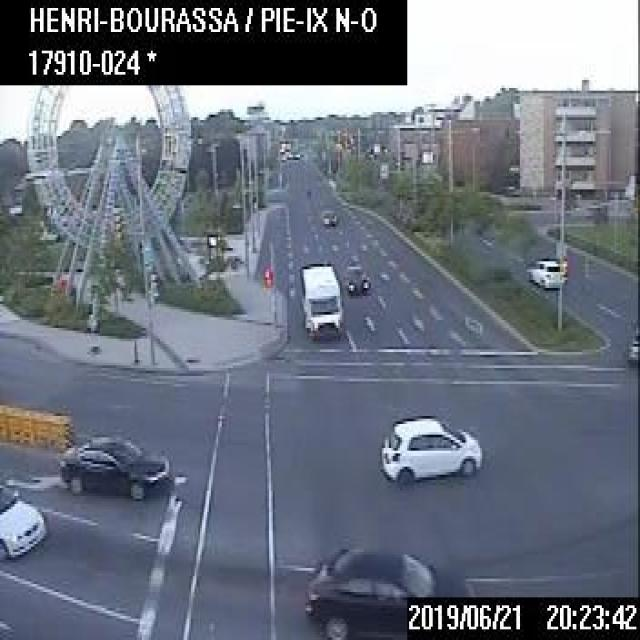construction: (262, 266, 274, 321)
vehicle: (302, 544, 467, 637), (54, 429, 171, 499), (380, 413, 482, 488), (0, 482, 47, 560), (298, 261, 344, 336), (524, 253, 566, 288), (342, 259, 369, 296), (624, 320, 638, 365), (318, 205, 336, 227)
